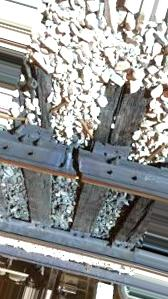tracks_fault: (55, 138, 93, 191)
